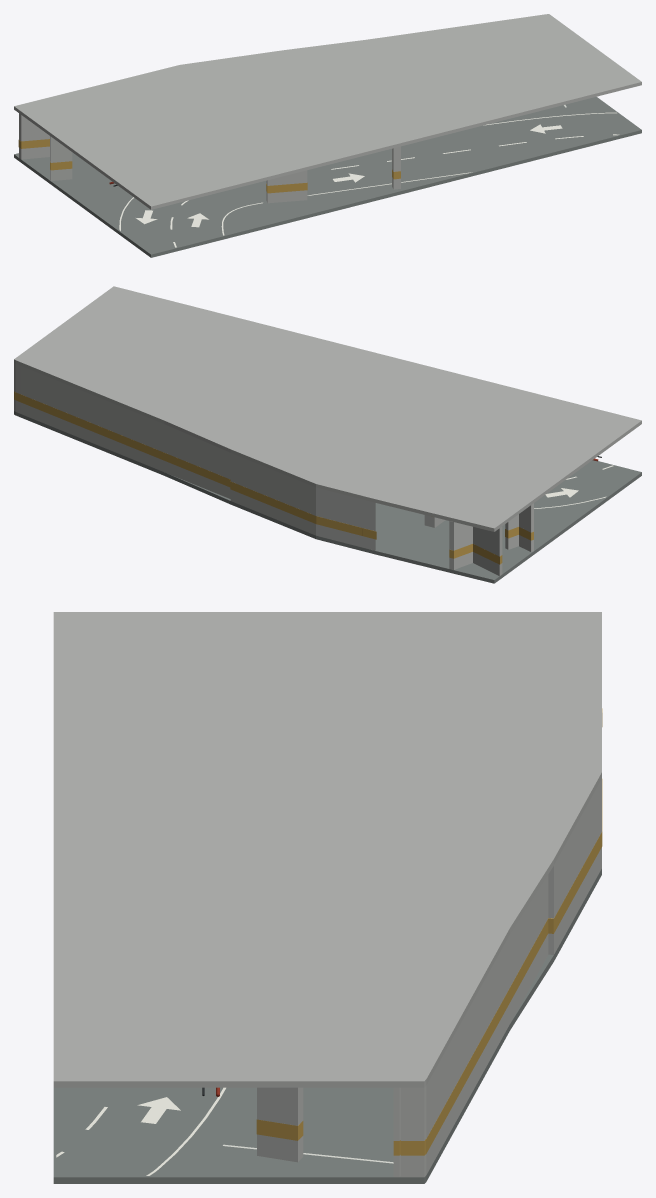
The model's file is B03-parking.glb.
The picture shows the model from 3 angles, top to bottom: view 1: azimuth 30°, elevation 25°; view 2: azimuth 150°, elevation 25°; view 3: azimuth 270°, elevation 25°; orthographic projection. The views are drawn at different scales.
Visible parts, largest first — view 1: Proposed | soffit above sector, SOURCE approximate sector | graded floor, SOURCE PDF clipped fill 22 part 4, SOURCE PDF clipped fill 4 part 0, SOURCE PDF clipped fill 19 part 3, PROPOSED TRAFFIC | source-two-way-aisle | arrow, PROPOSED TRAFFIC | source-two-way-aisle | edge; view 2: Proposed | soffit above sector, SOURCE approximate sector | graded floor, SOURCE PDF clipped fill 119 part 9, SOURCE PDF clipped fill 120 part 10, Proposed | identity paint 9, Proposed | identity paint 10, SOURCE PDF clipped fill 22 part 4, SOURCE PDF clipped fill 79 part 5, SOURCE PDF clipped fill 123 part 13, SOURCE PDF clipped fill 19 part 3; view 3: Proposed | soffit above sector, SOURCE approximate sector | graded floor, SOURCE PDF clipped fill 119 part 9, SOURCE PDF clipped fill 120 part 10, SOURCE PDF clipped fill 12 part 2, SOURCE PDF clipped fill 118 part 8, Proposed | identity paint 9, Proposed | identity paint 10.
Part boxes in pixels (x1,y1,x2,y2): Proposed | soffit above sector: [14, 14, 641, 209]; SOURCE approximate sector | graded floor: [14, 97, 641, 257]; SOURCE PDF clipped fill 22 part 4: [19, 113, 49, 159]; SOURCE PDF clipped fill 4 part 0: [266, 170, 307, 203]; SOURCE PDF clipped fill 19 part 3: [50, 136, 72, 180]; PROPOSED TRAFFIC | source-two-way-aisle | arrow: [136, 124, 562, 227]; PROPOSED TRAFFIC | source-two-way-aisle | edge: [119, 112, 616, 235]; Proposed | soffit above sector: [14, 286, 641, 531]; SOURCE approximate sector | graded floor: [14, 411, 641, 583]; SOURCE PDF clipped fill 119 part 9: [15, 364, 230, 498]; SOURCE PDF clipped fill 120 part 10: [230, 453, 361, 547]; Proposed | identity paint 9: [15, 392, 230, 487]; Proposed | identity paint 10: [230, 481, 362, 535]; SOURCE PDF clipped fill 22 part 4: [473, 526, 502, 576]; SOURCE PDF clipped fill 79 part 5: [449, 521, 472, 569]; SOURCE PDF clipped fill 123 part 13: [362, 499, 375, 550]; SOURCE PDF clipped fill 19 part 3: [519, 503, 533, 551]; Proposed | soffit above sector: [53, 612, 601, 1087]; SOURCE approximate sector | graded floor: [53, 869, 601, 1183]; SOURCE PDF clipped fill 119 part 9: [426, 875, 548, 1174]; SOURCE PDF clipped fill 120 part 10: [548, 779, 601, 954]; SOURCE PDF clipped fill 12 part 2: [257, 1087, 303, 1162]; SOURCE PDF clipped fill 118 part 8: [400, 1086, 426, 1177]; Proposed | identity paint 9: [426, 918, 548, 1153]; Proposed | identity paint 10: [548, 791, 602, 933].
Bounding box in the file's own units: 31.01 × 3.4 × 15.01.
